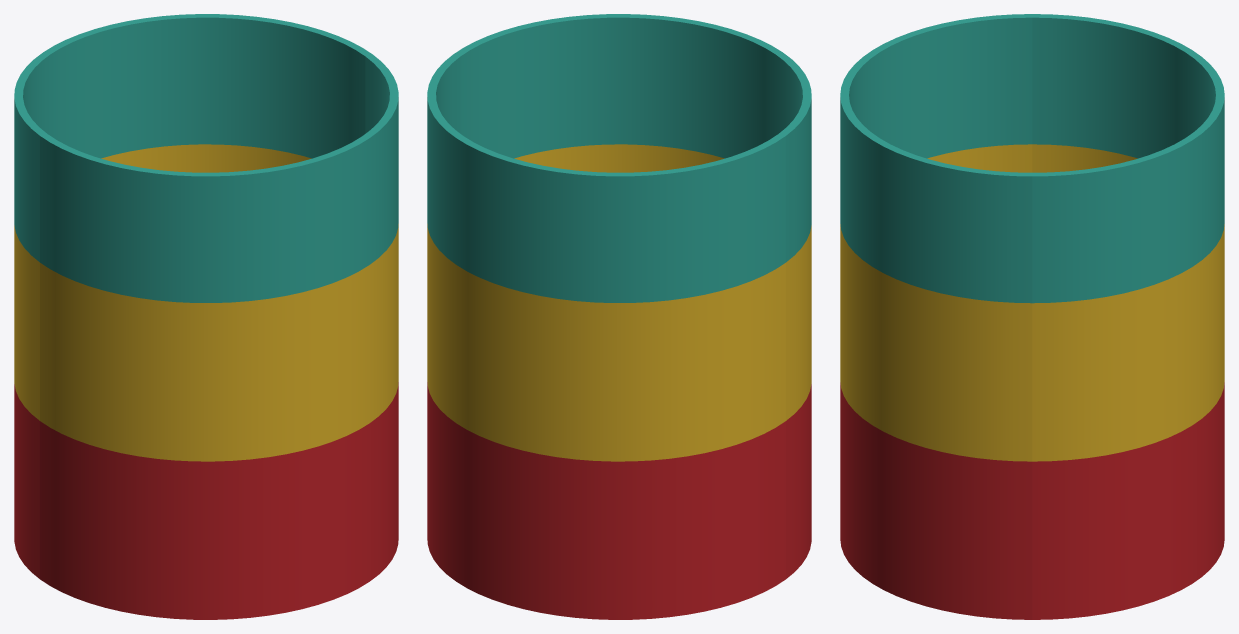
Rendered from gas_scrubbing_system_pressure.glb.
3 views of the same model, side by side, from view 1: azimuth 30°, elevation 25°; view 2: azimuth 150°, elevation 25°; view 3: azimuth 270°, elevation 25° (orthographic).
Parts seen in each view (by area): view 1: pressure__front, pressure__back; view 2: pressure__back, pressure__front; view 3: pressure__back, pressure__front.
Part boxes in pixels (x1,y1,x2,y2): pressure__front: (40,54,398,619); pressure__back: (14,14,372,578); pressure__back: (427,54,785,619); pressure__front: (453,14,811,578); pressure__back: (1032,14,1224,619); pressure__front: (840,14,1032,619).
Bounding box in the file's own units: 1.1 × 1.4 × 1.1.
